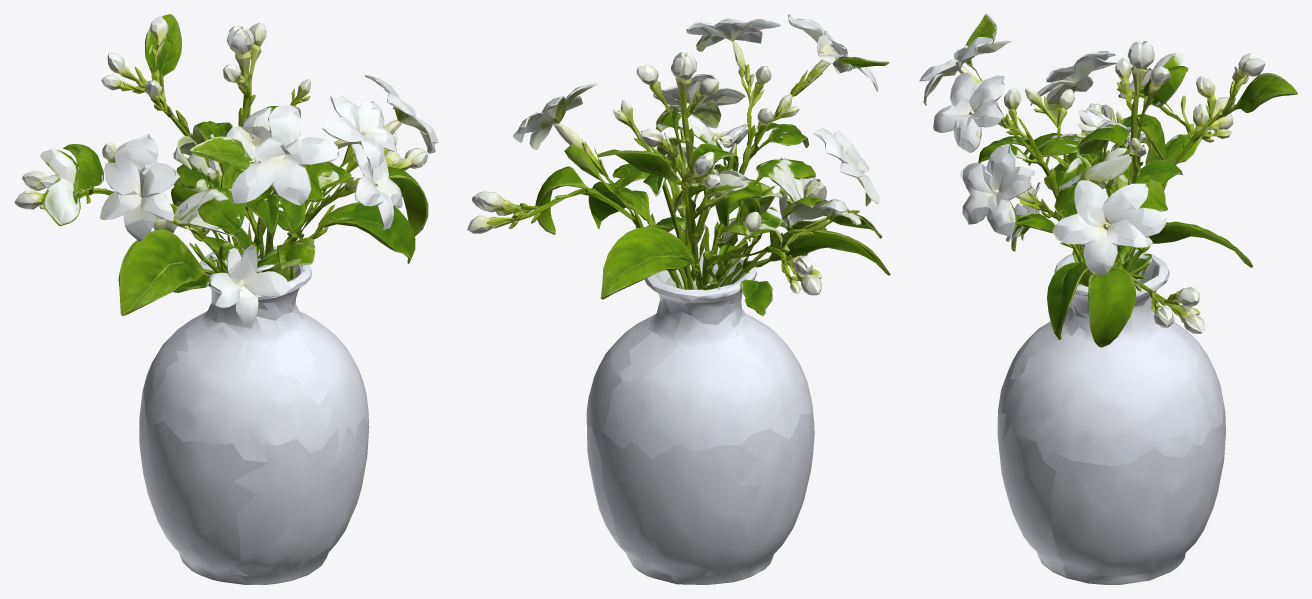
Rendered from w51jasmine.glb.
3 renders of one model, left to right at view 1: azimuth 30°, elevation 25°; view 2: azimuth 150°, elevation 25°; view 3: azimuth 270°, elevation 25°, orthographic.
Visible parts, largest first — view 1: output_unwrapped; view 2: output_unwrapped; view 3: output_unwrapped.
Part boxes in pixels (left/top/right/bottom): output_unwrapped: left=14, top=14, right=438, bottom=584; output_unwrapped: left=467, top=14, right=890, bottom=584; output_unwrapped: left=919, top=14, right=1297, bottom=584.
Bounding box in the file's own units: 0.1768 × 0.22 × 0.1469.
Materials: 1 (1 with a texture image).
